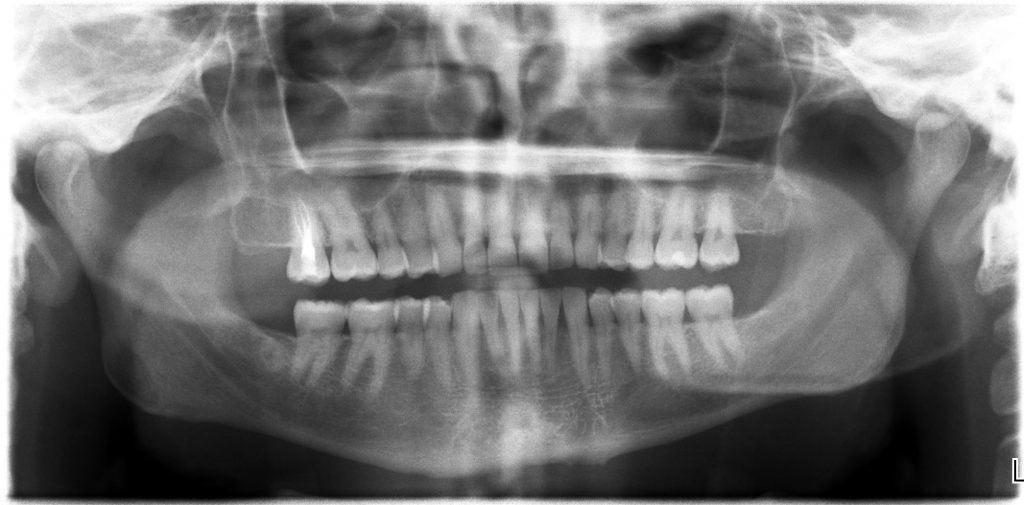canine: (557, 276, 597, 412), (421, 168, 467, 282), (448, 277, 486, 406), (572, 173, 603, 275)
incisor: (471, 274, 508, 379), (516, 176, 550, 281), (496, 279, 529, 385), (484, 179, 518, 281), (535, 276, 564, 388), (545, 173, 576, 275), (516, 271, 545, 379), (457, 179, 488, 280)
molar: (680, 273, 757, 393), (314, 168, 381, 291), (285, 284, 351, 401), (637, 274, 695, 403), (342, 284, 398, 408), (279, 182, 336, 295), (695, 169, 745, 284), (651, 169, 701, 280), (364, 184, 412, 290), (391, 282, 427, 414), (608, 269, 644, 393), (623, 170, 658, 275)
premolar: (392, 167, 435, 282), (419, 278, 458, 398), (586, 277, 620, 401), (592, 170, 631, 278)
